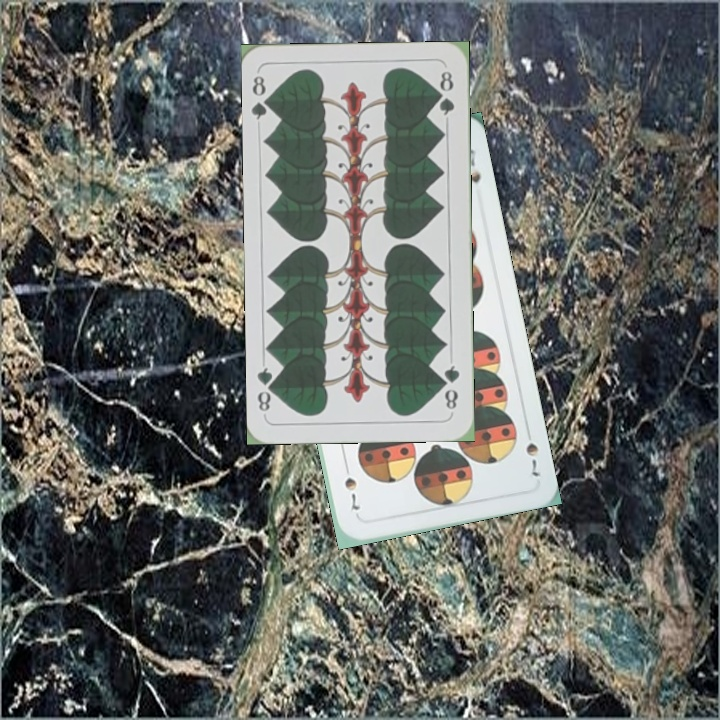G8: (248, 72, 276, 122), (438, 361, 462, 415)
S7: (521, 439, 543, 479)
